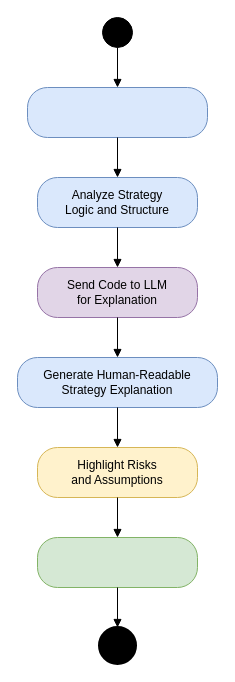
The diagram is 235 pixels wide and 682 high, and some of its shapes have lost their labels. The centre of each missing label's shape, as x and y in pixels:
Present Explanation to User: point (117, 562)
Receive Finalized MQL5 Strategy Code: point (117, 112)
